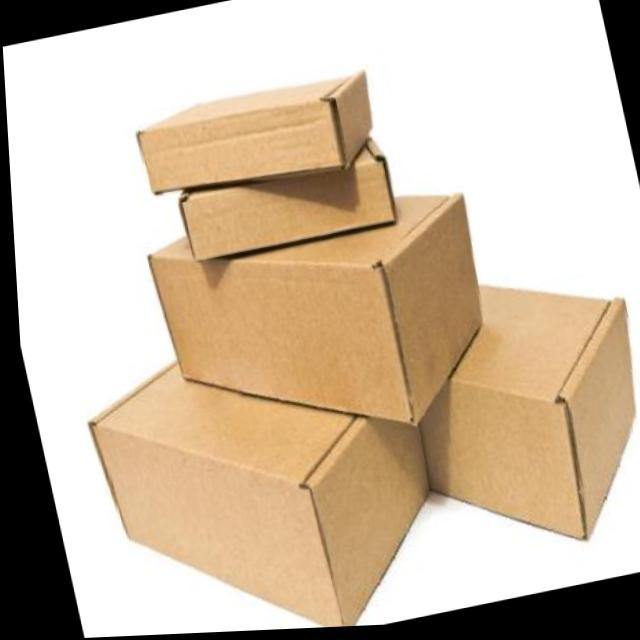box: (123, 152, 525, 499), (55, 301, 445, 639), (399, 242, 640, 587), (153, 129, 433, 304), (113, 45, 390, 218)
